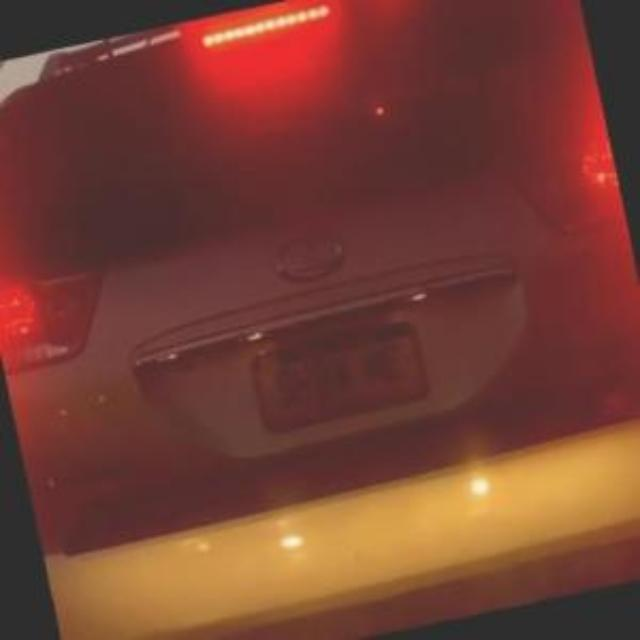License Plate: (244, 314, 430, 437)
